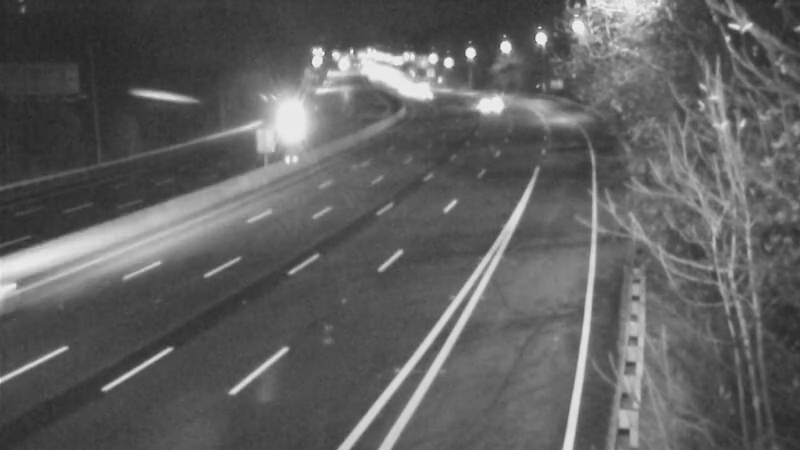vehicle: (460, 80, 510, 130), (270, 95, 320, 145)
